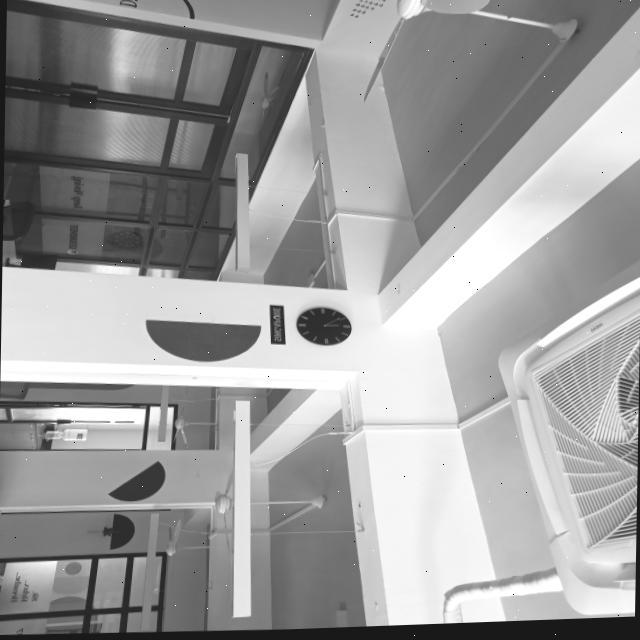light_off: (216, 390, 260, 623), (225, 146, 258, 279), (136, 510, 163, 633), (144, 385, 174, 446)
